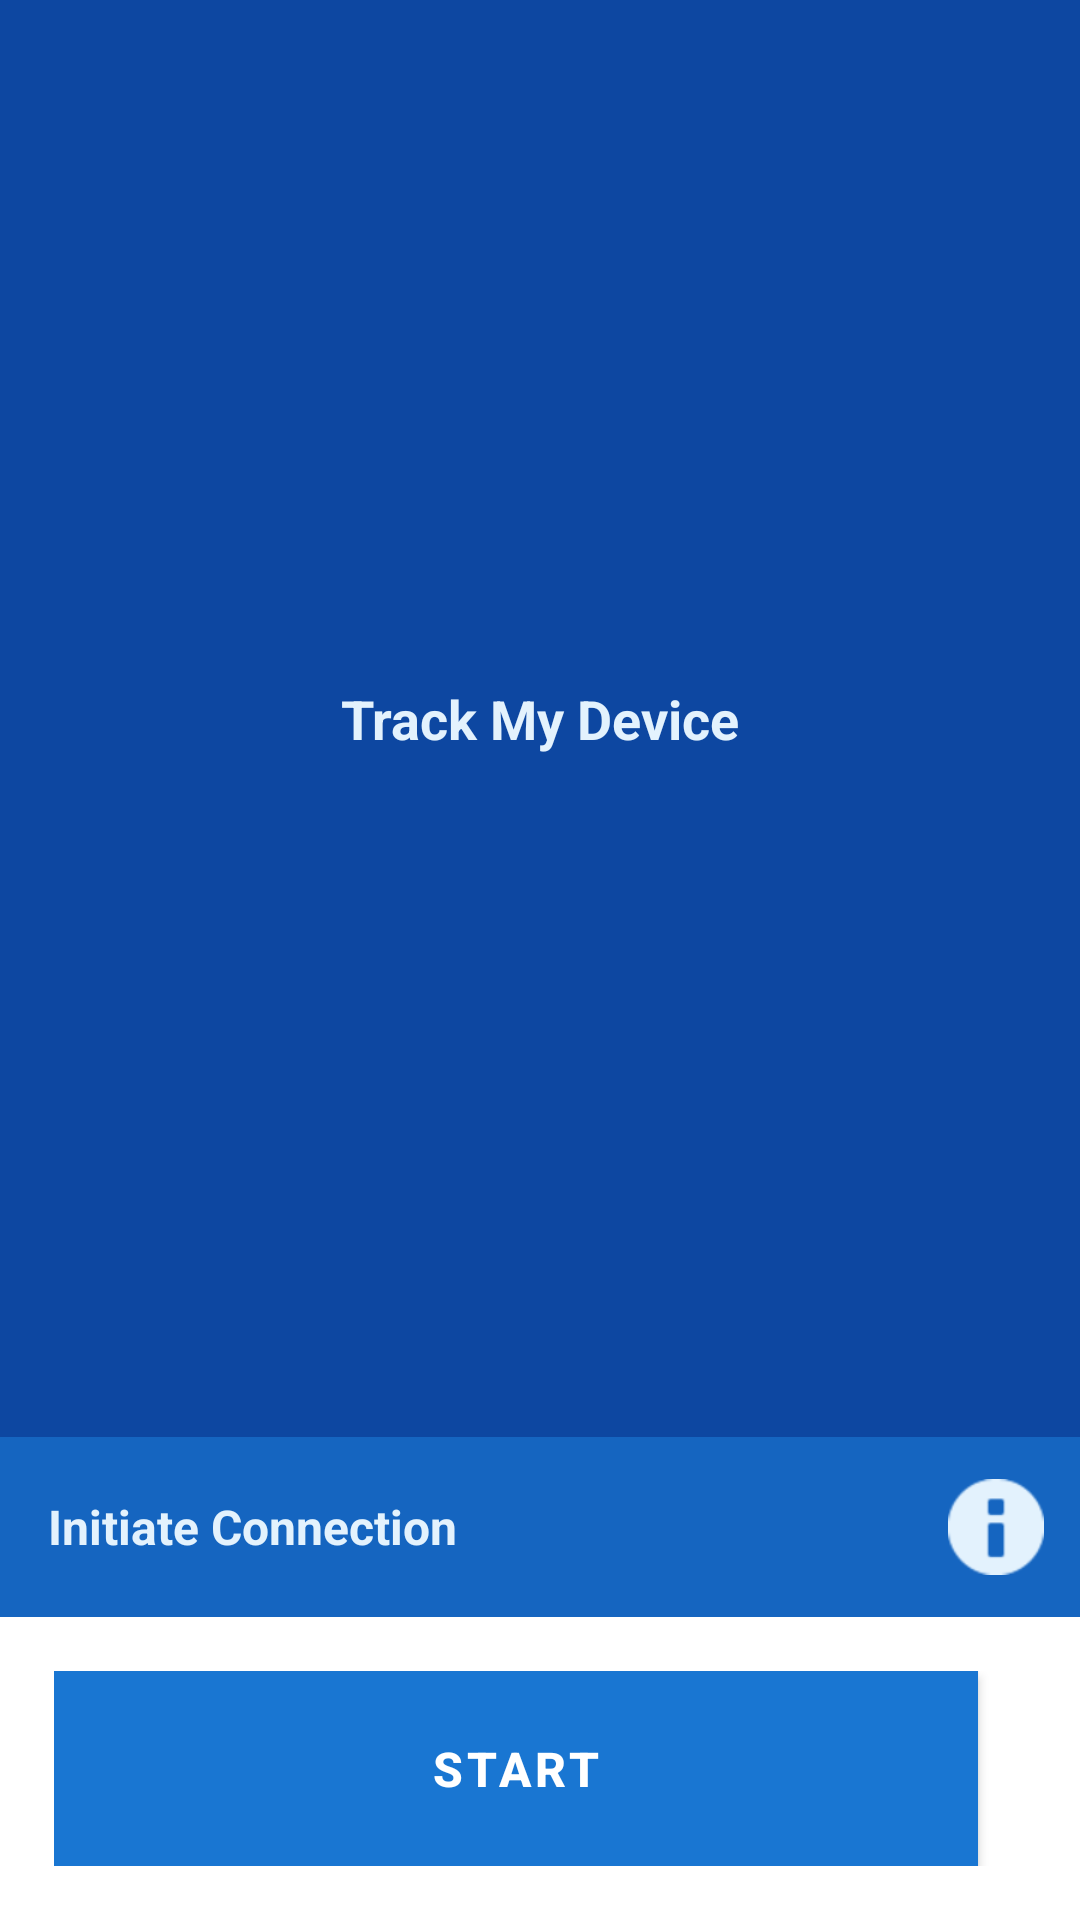

Icon click points for this 1080w x 1920h phone screenshot, format point (x, y):
About: point (996, 1527)
